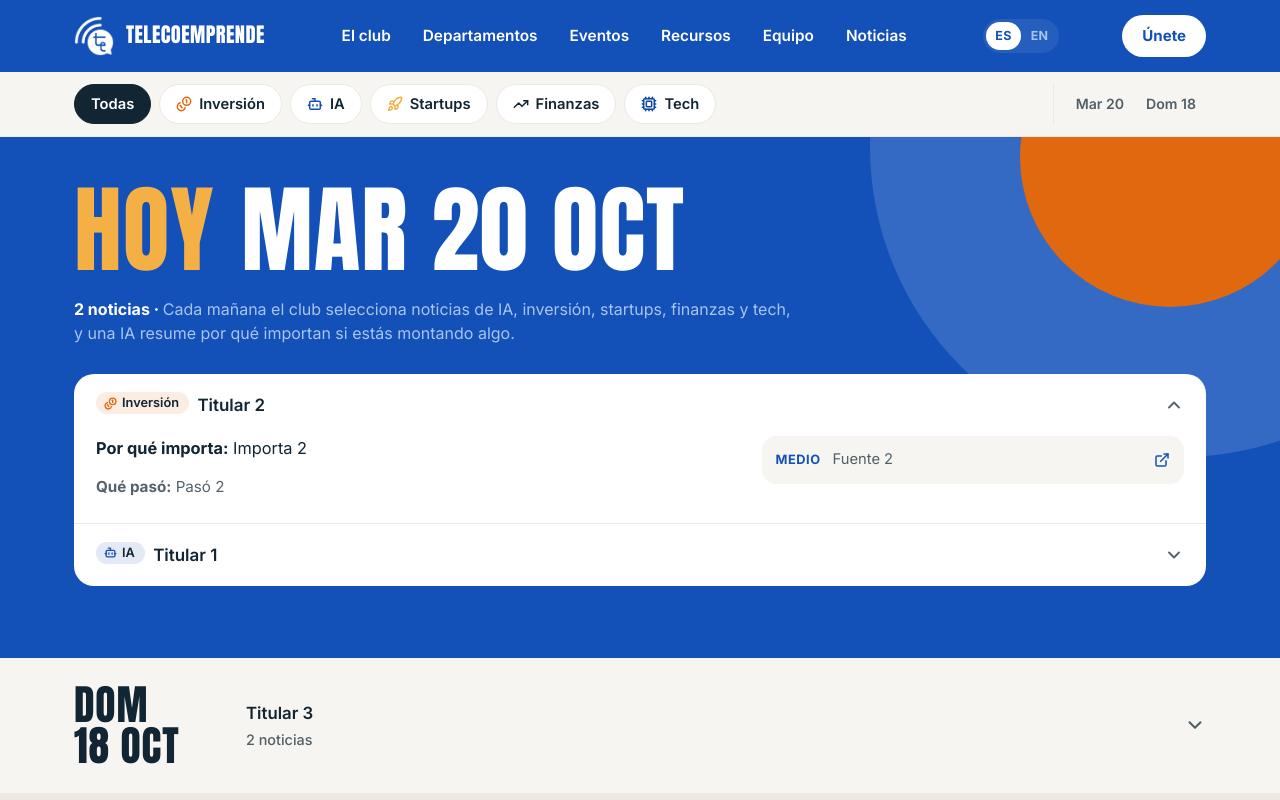
Scenario: NewsPage › sin noticias de un tema lo dice en vez de dejar la página vacía
Check: the button "Inversión Titular 2" is shown, box [74,374,1206,436]
Click the button "Tech".
click(670, 104)  # box [624,84,716,124]
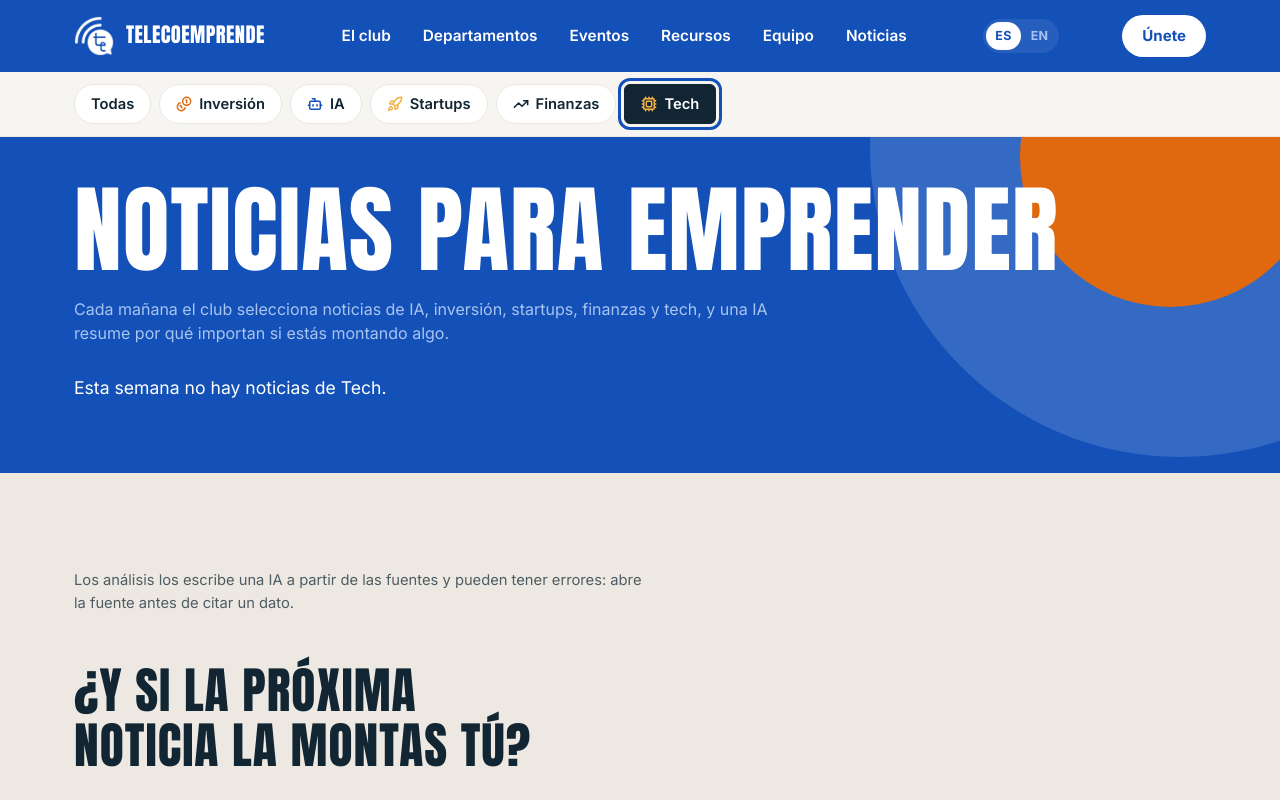
Check: the text "Esta semana no hay noticias de Tech." is shown, box [74,377,386,398]
